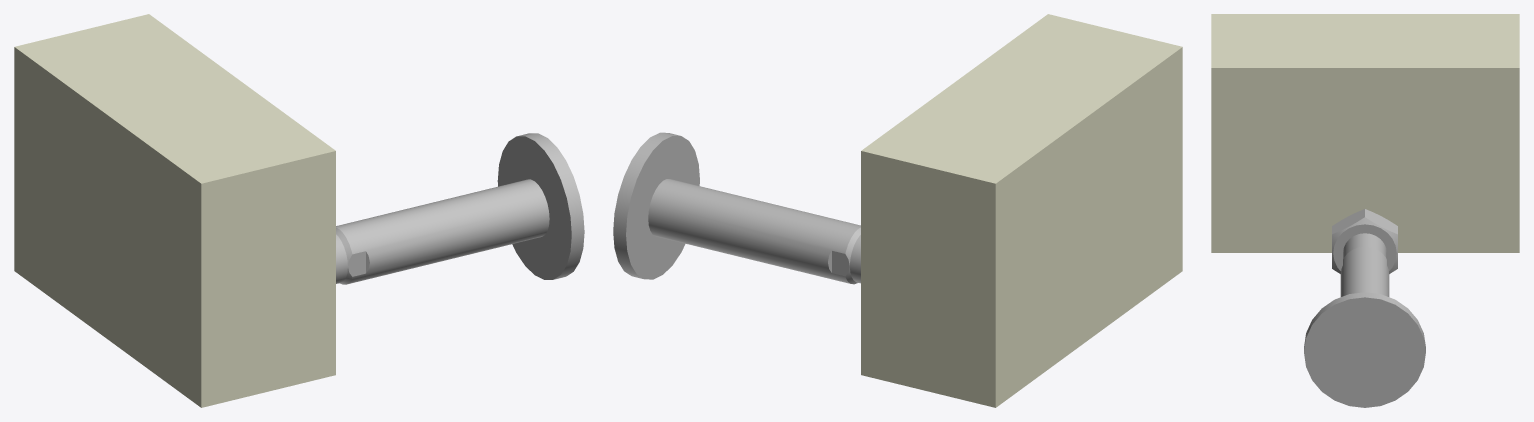
Rendered from chit.dae.
3 views of the same model, side by side, from view 1: azimuth 30°, elevation 25°; view 2: azimuth 150°, elevation 25°; view 3: azimuth 270°, elevation 25° (orthographic). The views are drawn at different scales.
Visible parts, largest first — view 1: group_1, CA2GH50-25_0_0_0_; view 2: group_1, CA2GH50-25_0_0_0_; view 3: group_1, CA2GH50-25_0_0_0_ (×2).
Boxes of the visible parts, x1,y1,x2,y2 form: group_1: (14, 14, 335, 407); CA2GH50-25_0_0_0_: (336, 133, 584, 284); group_1: (861, 14, 1182, 407); CA2GH50-25_0_0_0_: (613, 132, 860, 284); group_1: (1211, 14, 1519, 252); CA2GH50-25_0_0_0_ (×2): (1304, 209, 1425, 407).
Bounding box in the file's own units: 171 × 126 × 98.25.
